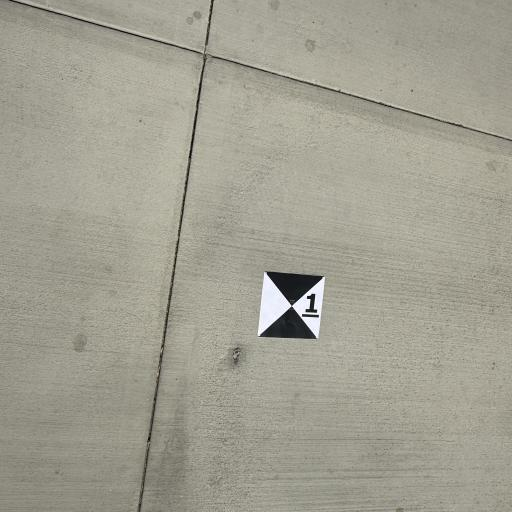target1: (254, 266, 329, 348)
